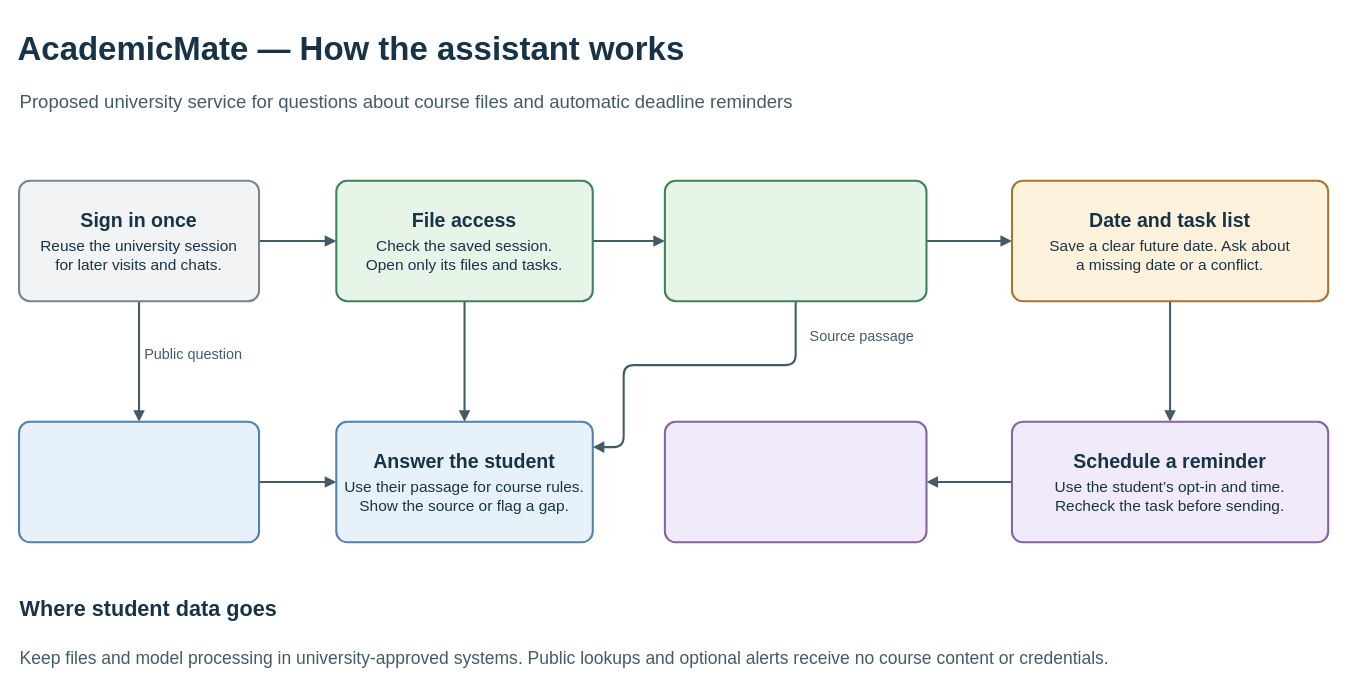
This 1346x689 diagram has some shape labels left out. Each missing label, with the centre of its shape:
"Public lookup Read an approved public page. Link to it for background." goes at point 139,481.
"Read the notice Keep the passage and page or image. Check date labels." goes at point 795,240.
"WhatsApp alert Send a generic alert once. Record its send status." goes at point 795,481.
